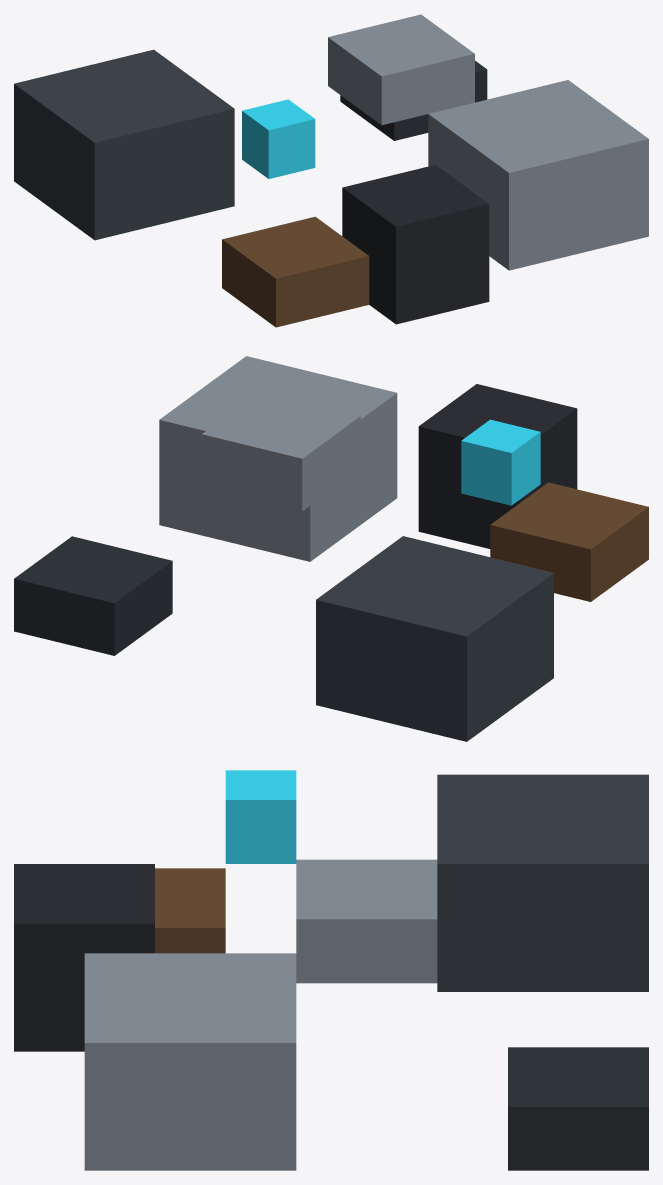
File: fx_debris.glb
3 renders of one model, top to bottom at view 1: azimuth 30°, elevation 25°; view 2: azimuth 150°, elevation 25°; view 3: azimuth 270°, elevation 25°, orthographic. The views are drawn at different scales.
Parts seen in each view (by area): view 1: Chunk mesh, Shard mesh; view 2: Chunk mesh, Shard mesh; view 3: Chunk mesh, Shard mesh.
Boxes of the visible parts, left/top/right/bottom form: Chunk mesh: left=14, top=49, right=648, bottom=327; Shard mesh: left=242, top=14, right=474, bottom=178; Chunk mesh: left=14, top=356, right=648, bottom=741; Shard mesh: left=201, top=392, right=540, bottom=511; Chunk mesh: left=14, top=774, right=648, bottom=1170; Shard mesh: left=225, top=770, right=437, bottom=983.
Size of the model in its own units: 9 by 3 by 9.
1 material, 1 textured.
